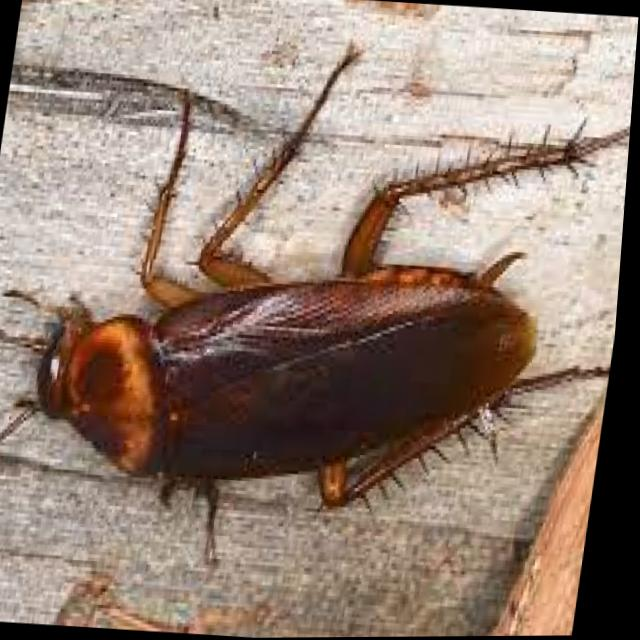Cockroach: (0, 11, 639, 611)
